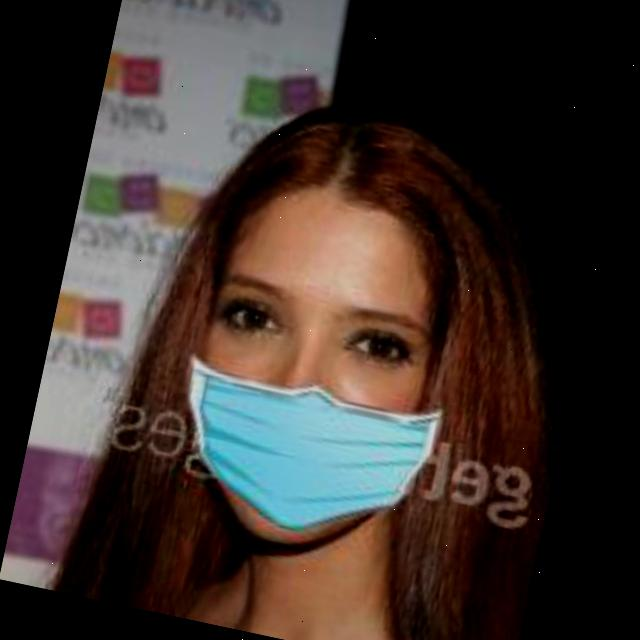suspicion: (68, 125, 506, 585)
